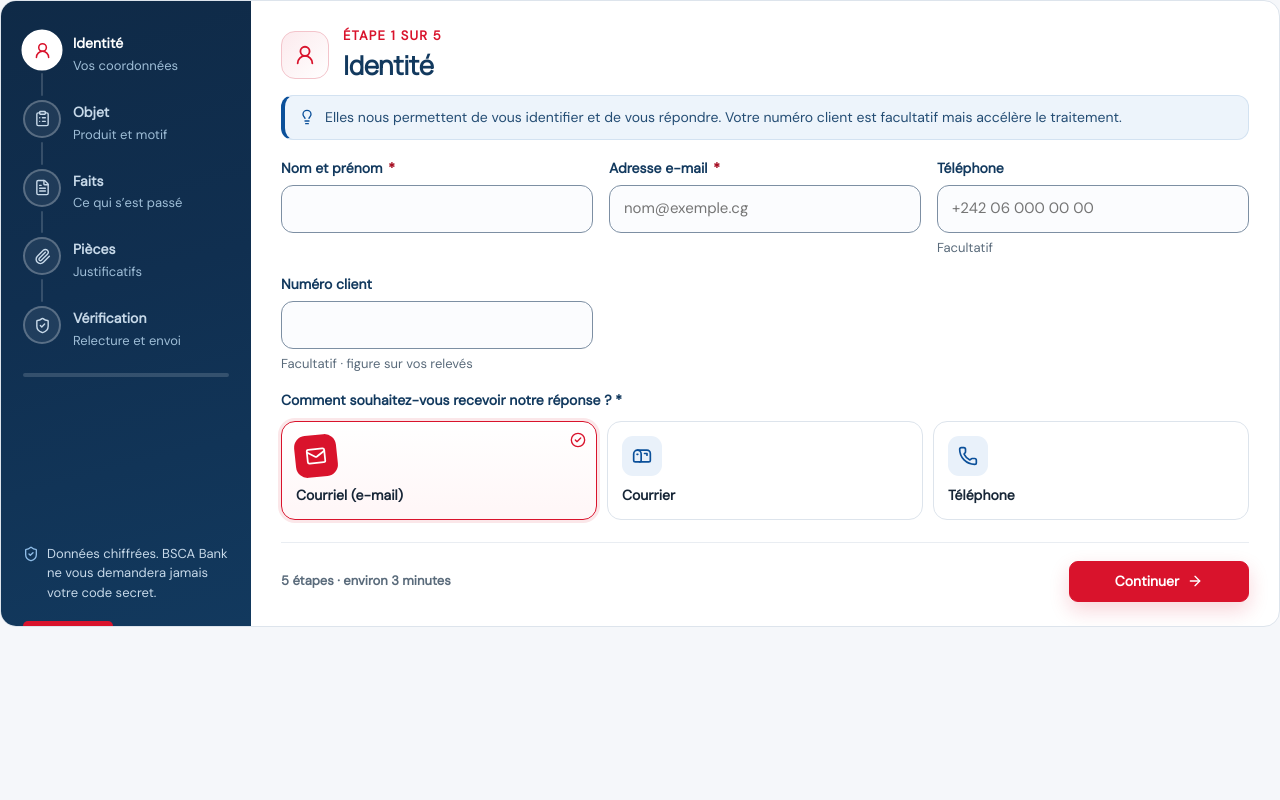
Test case: Formulaire de dépôt multi-étapes › accepte un téléphone au format du serveur et affiche une aide courte en version compacte
The image size is (1280, 800).
Expected: the text "Elles nous permettent de vous identifier" is shown, [325,108,1122,126]
Type "Jeanne Mabiala" into the field labelled "Nom et prénom *".
click(437, 209); type("Jeanne Mabiala")  # box [281,185,593,233]
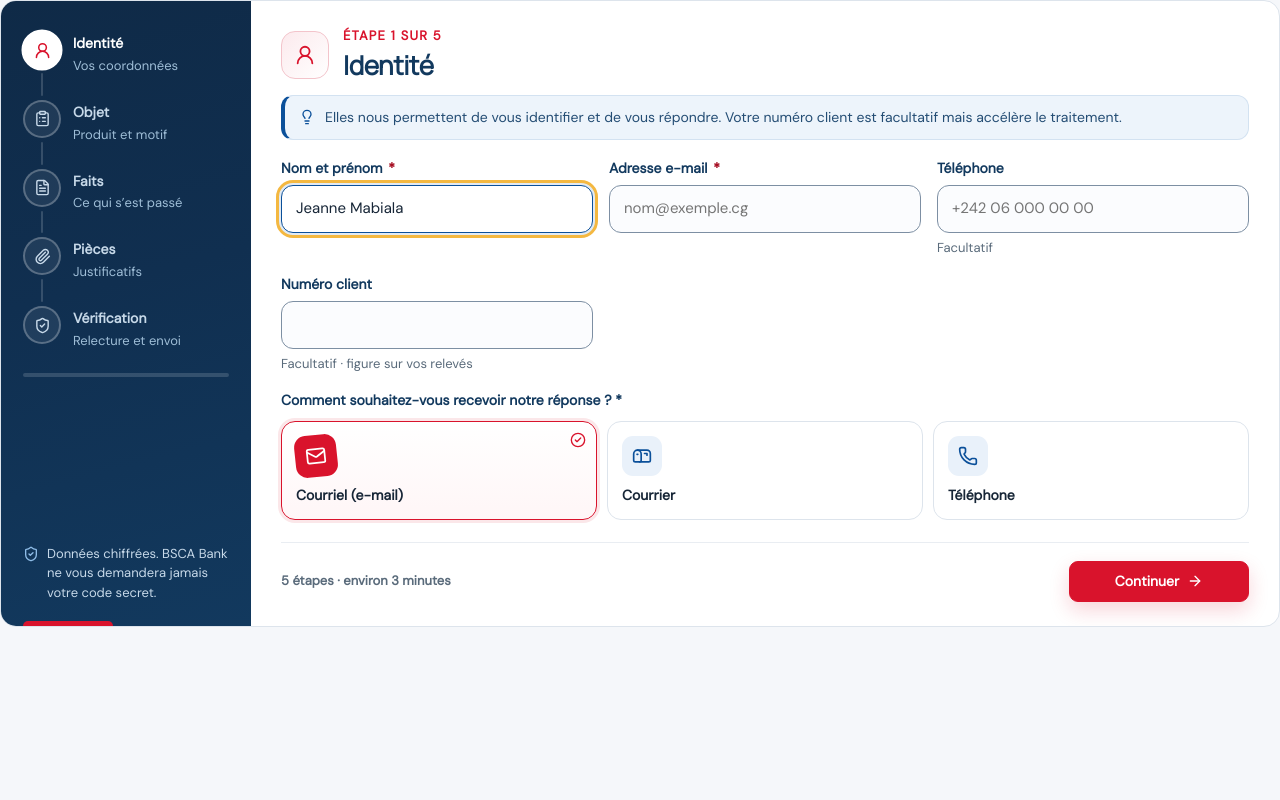
Type "jeanne@exemple.cg" into the field labelled "Adresse e-mail *".
click(765, 209); type("jeanne@exemple.cg")  # box [609,185,921,233]
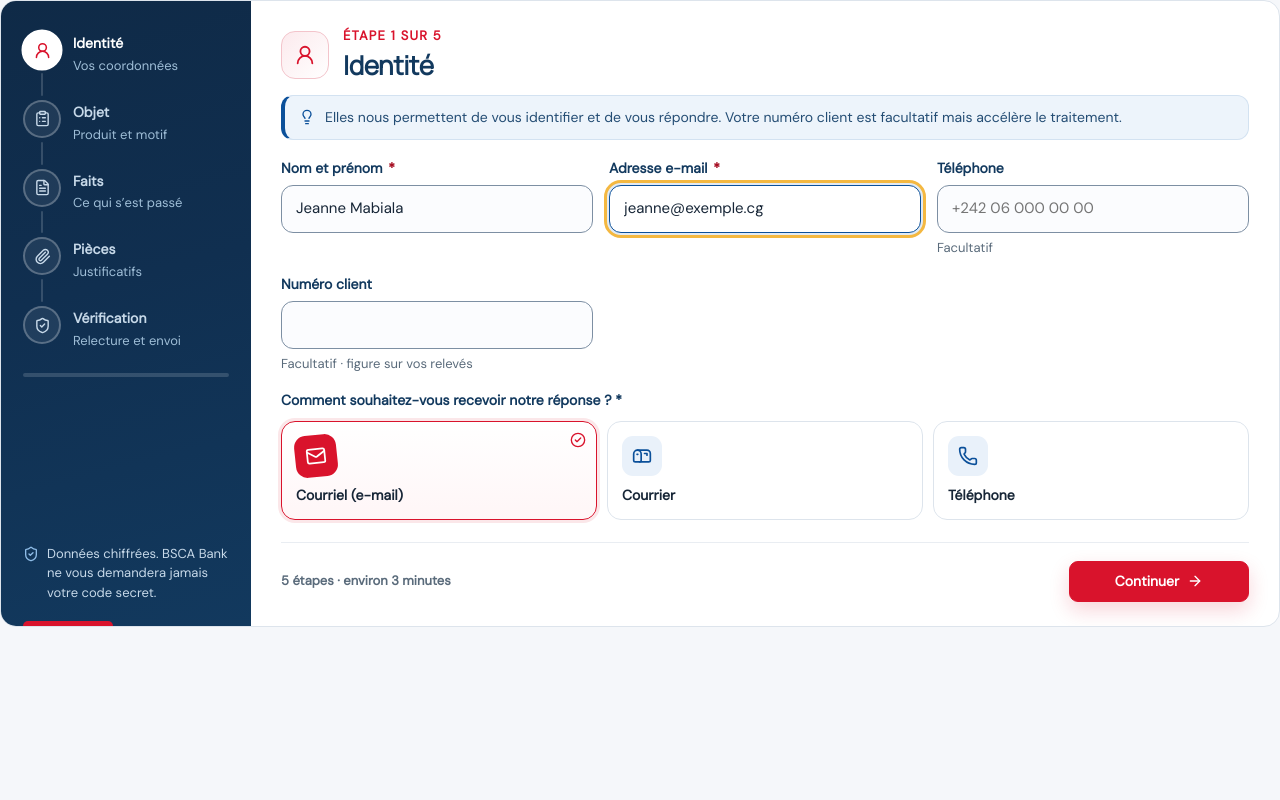
Type "(+242) 06-000-00-00" into the field labelled "Téléphone".
click(1093, 209); type("(+242) 06-000-00-00")  # box [937,185,1249,233]
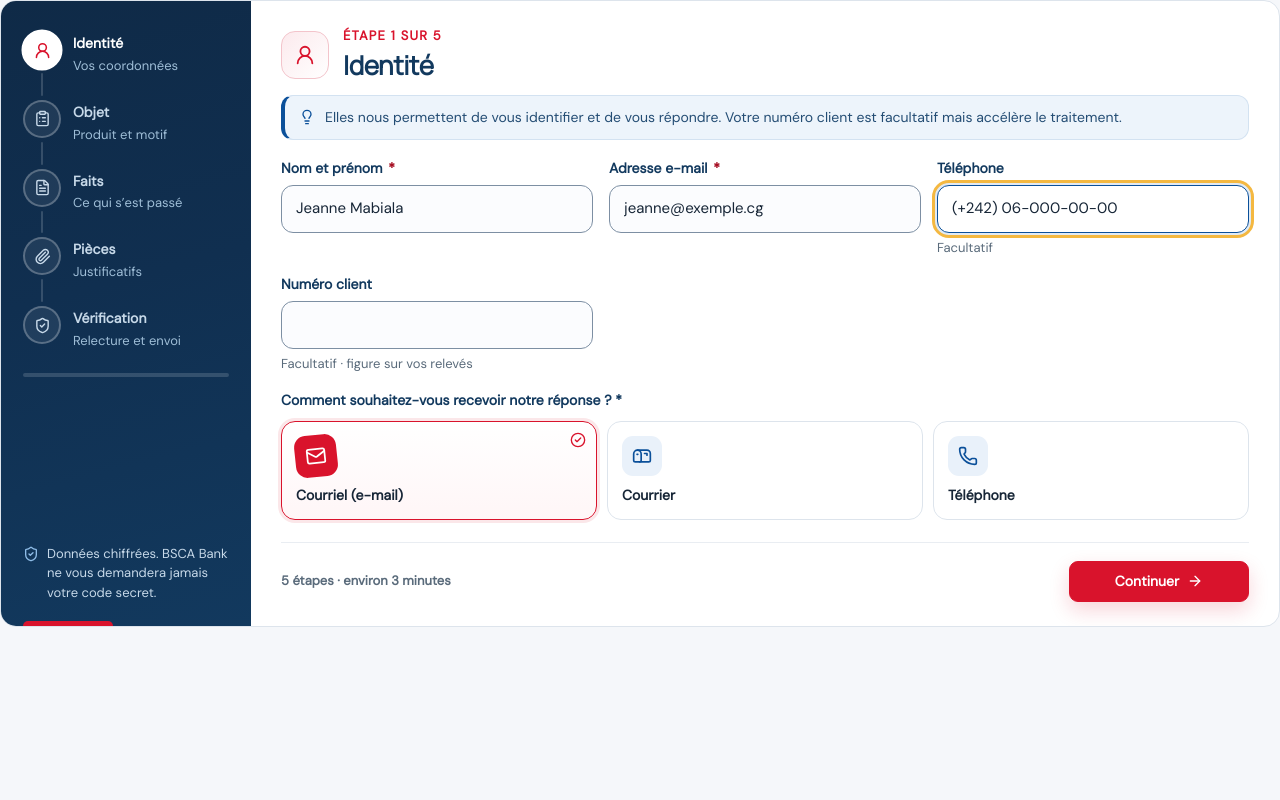
Click the button "Continuer".
click(1159, 581)  # box [1069,560,1249,602]
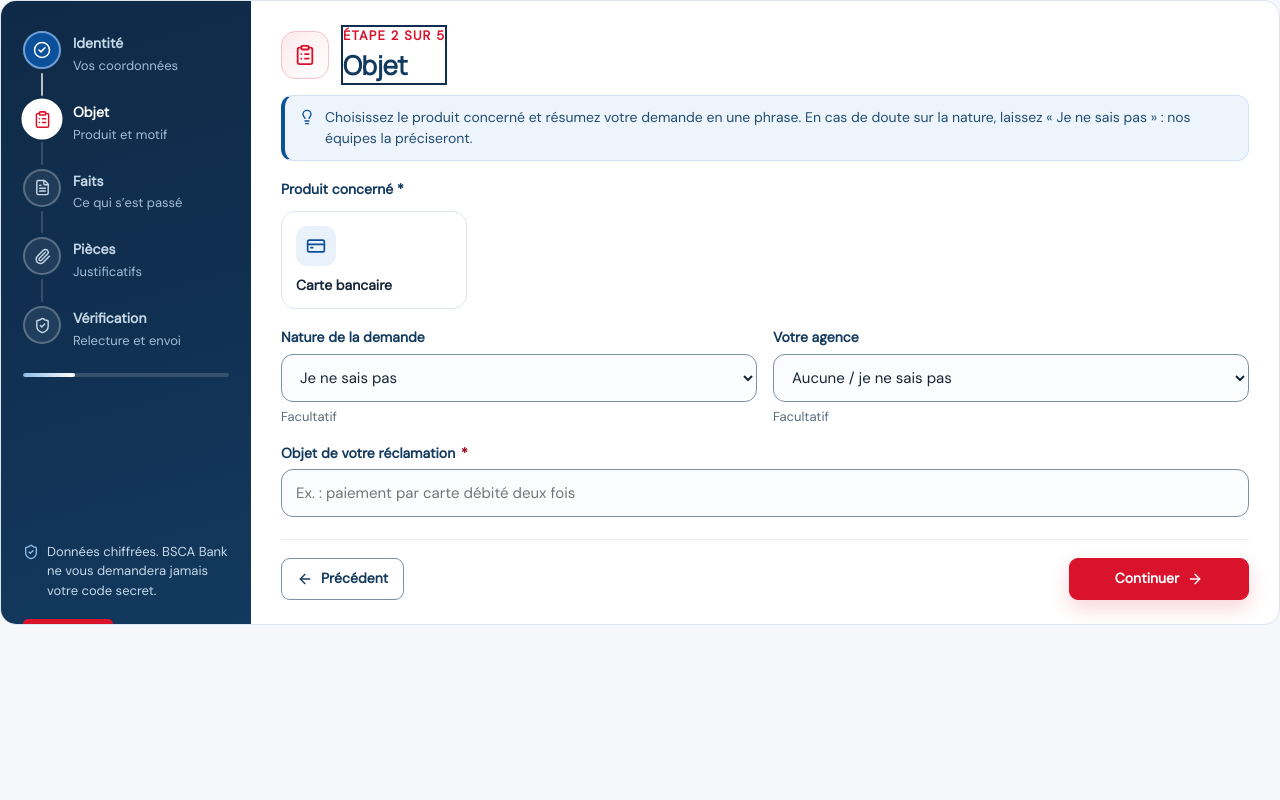
Expected: the heading "Étape 2 sur 5 Objet" is shown, [343,27,445,83]
